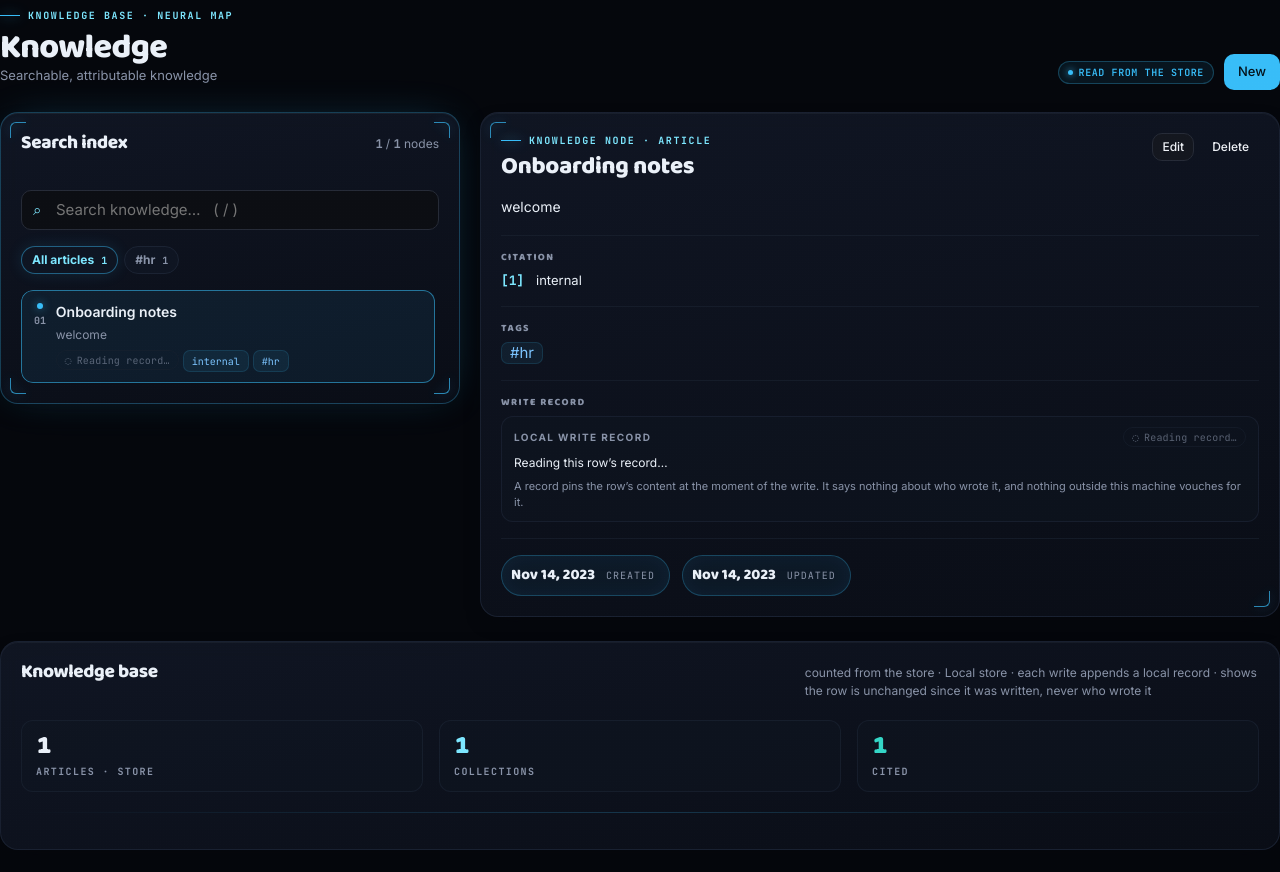
Test: Knowledge — a policy refusal is named as permanent; an unknown failure is not › with no desktop backend at all, no backend is said to have rejected anything
Expected: the text "Onboarding notes" is shown, x1=56 y1=303 x2=177 y2=320
Click the button "Delete". click: (1231, 147)
box: x1=1202 y1=133 x2=1259 y2=161
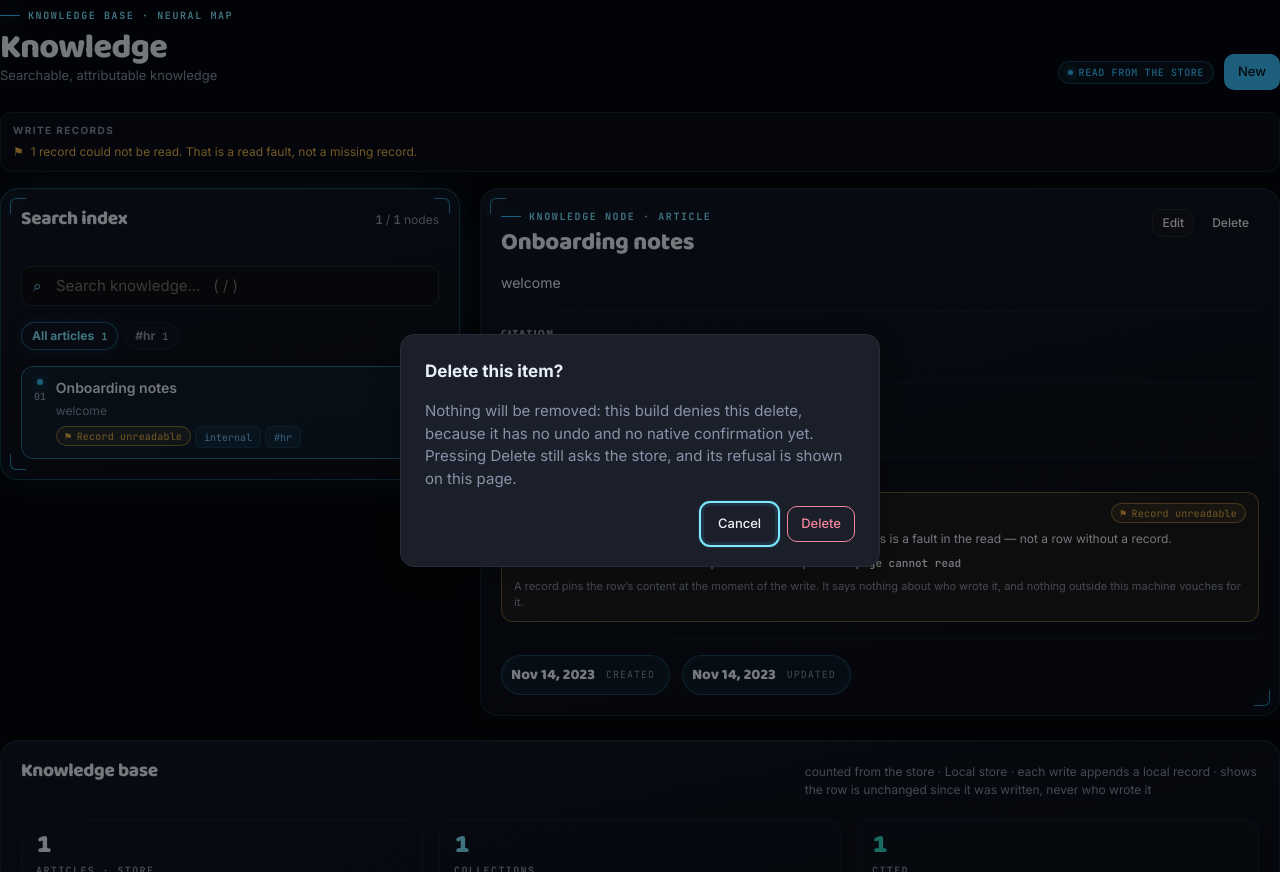
Expected: the dialog does not show "cannot be undone", x1=400 y1=334 x2=880 y2=566
Expected: the dialog shows "Nothing will be removed", x1=425 y1=401 x2=842 y2=488
Expected: the button "Delete" is shown
Click the button "Delete". click: (821, 524)
box: x1=787 y1=506 x2=855 y2=542
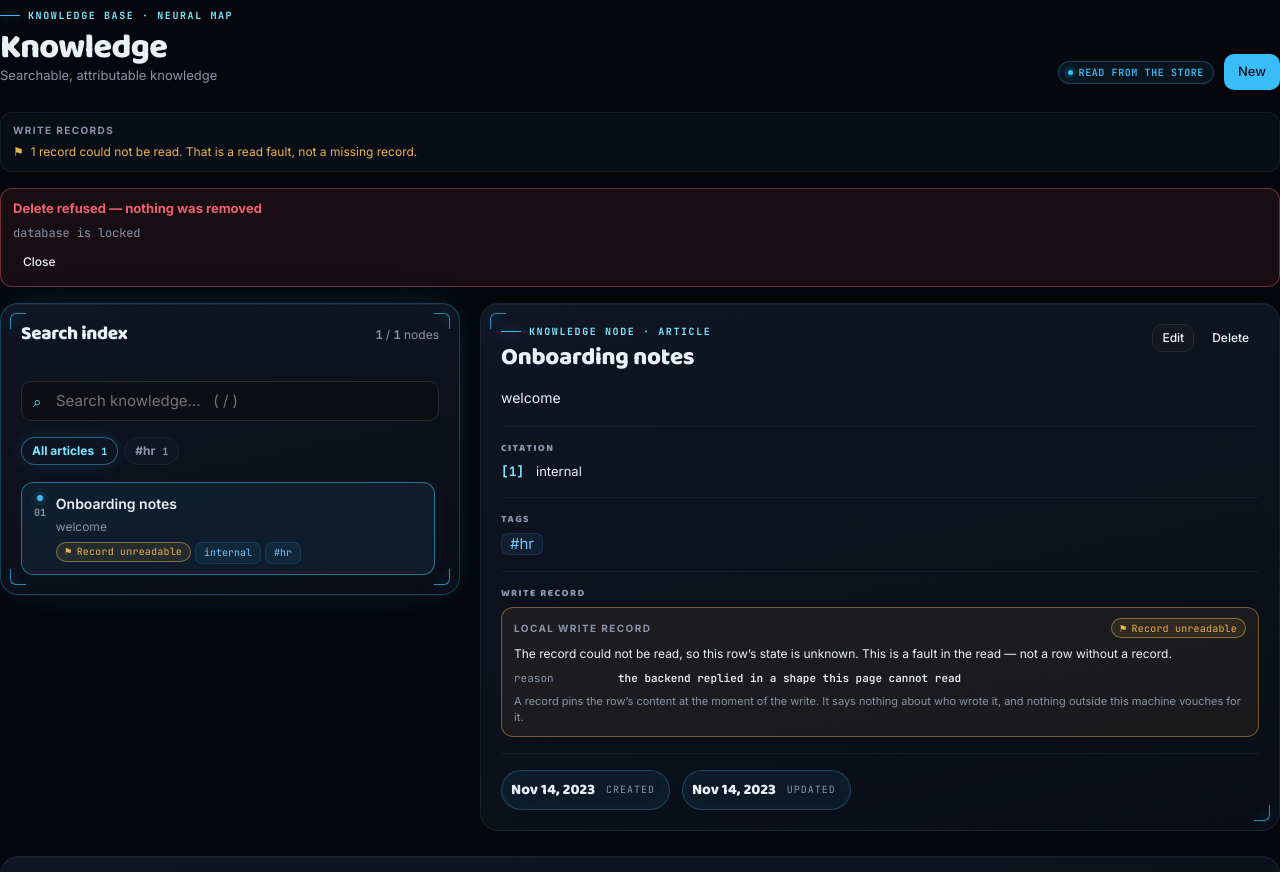
Expected: the message "Delete refused — nothing was removed database is locked Close" does not show "backend rejected", x1=0 y1=188 x2=1279 y2=287
Expected: the message "Delete refused — nothing was removed database is locked Close" is shown, x1=0 y1=188 x2=1279 y2=287
